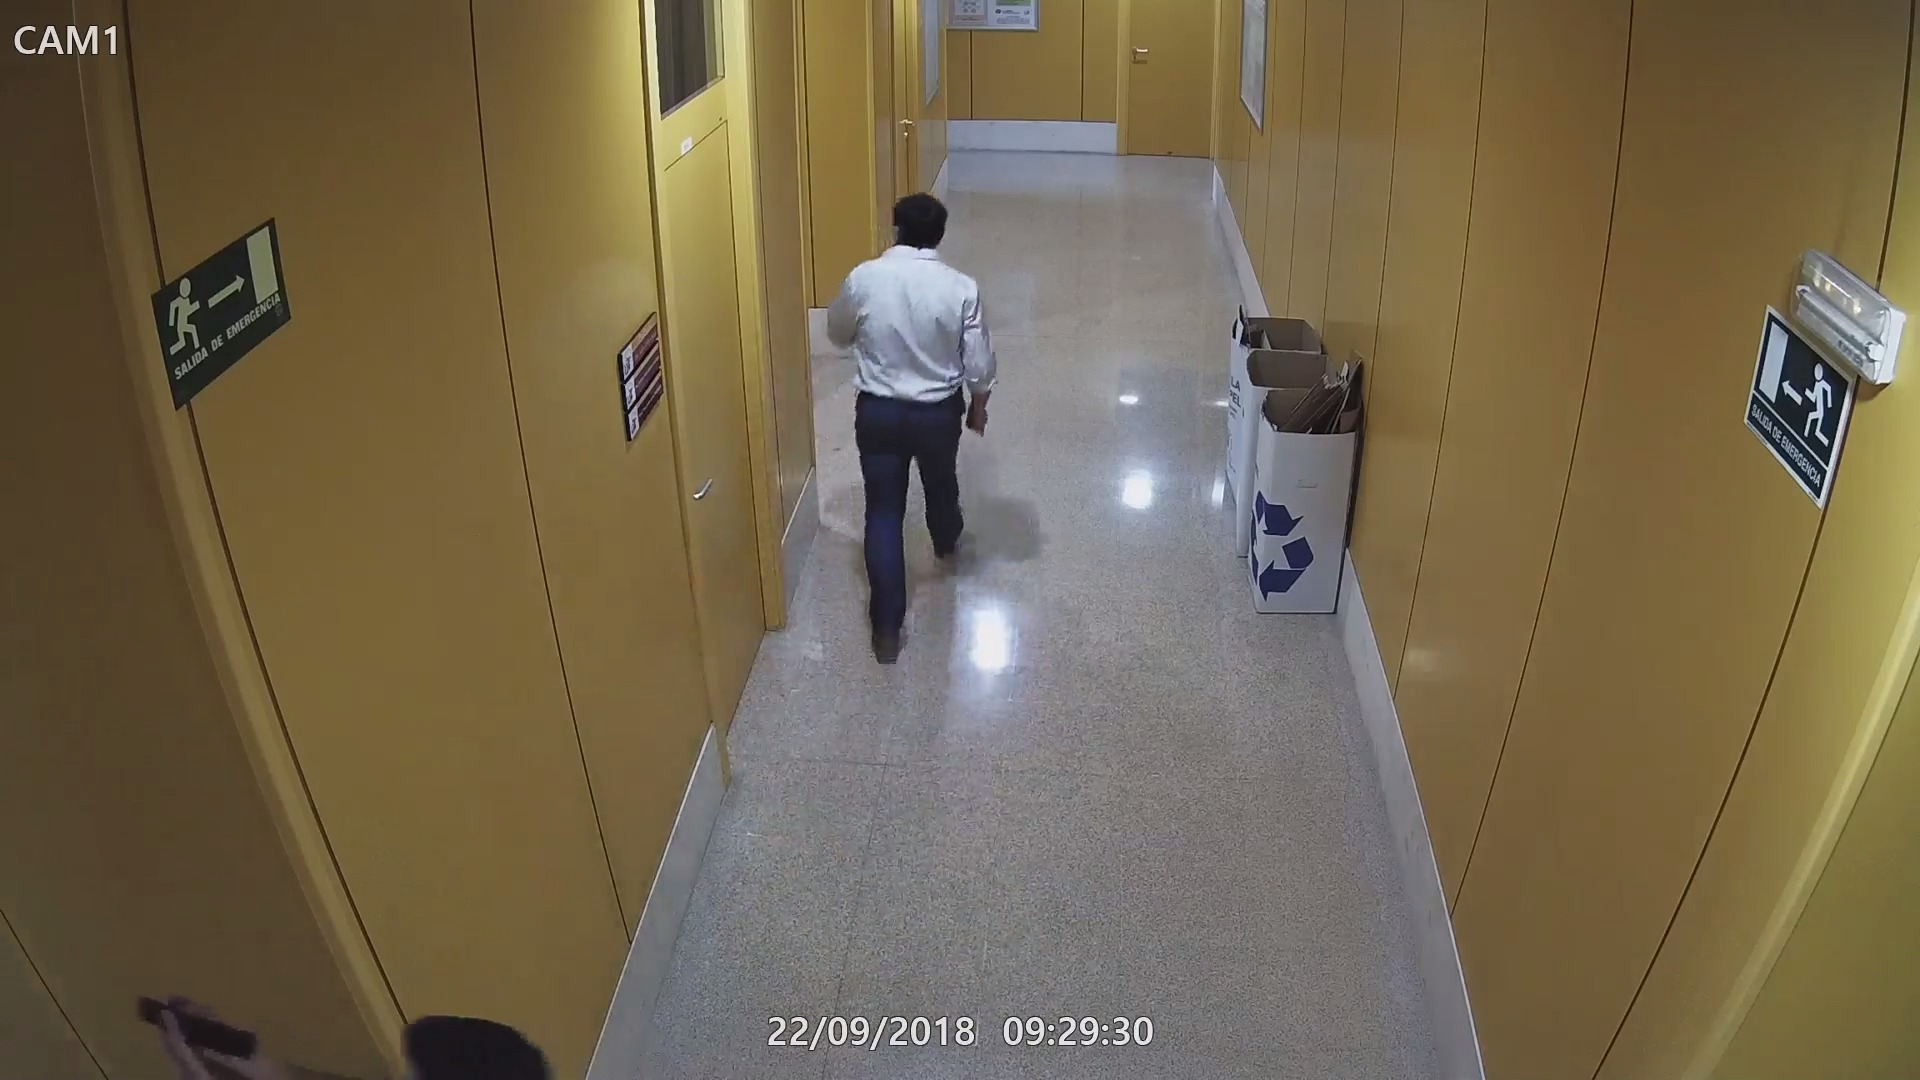Handgun: (135, 990, 266, 1080), (965, 396, 993, 436)
